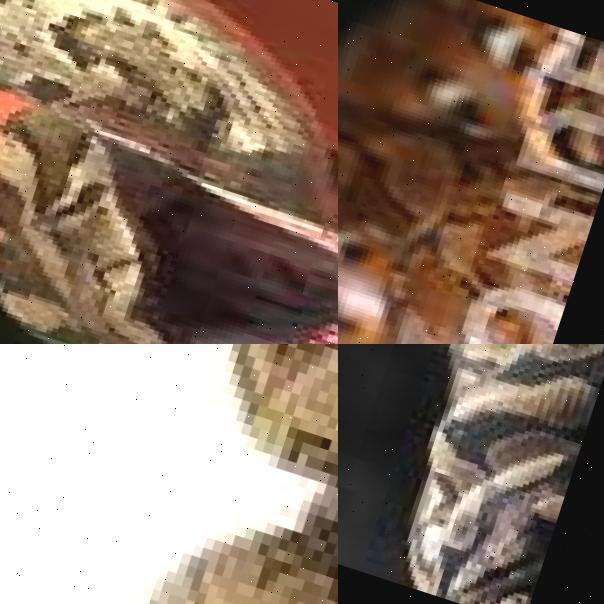snake: (0, 0, 338, 344), (338, 0, 604, 344), (73, 344, 338, 604), (341, 344, 604, 604)
